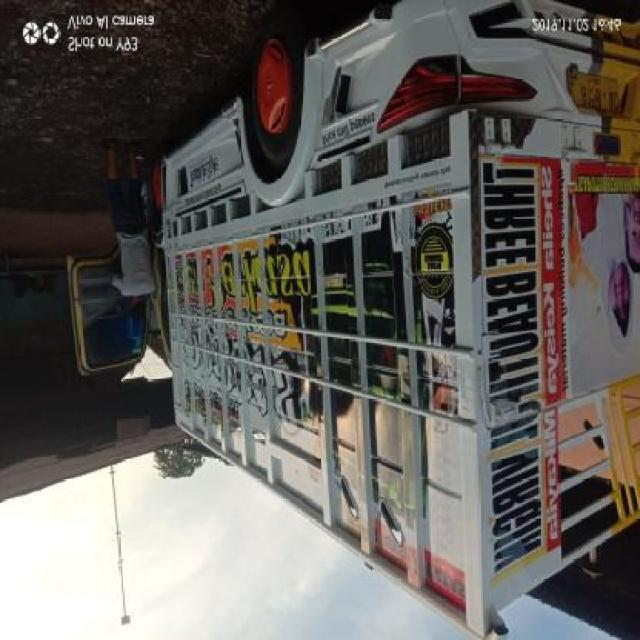truck: (67, 1, 640, 638)
